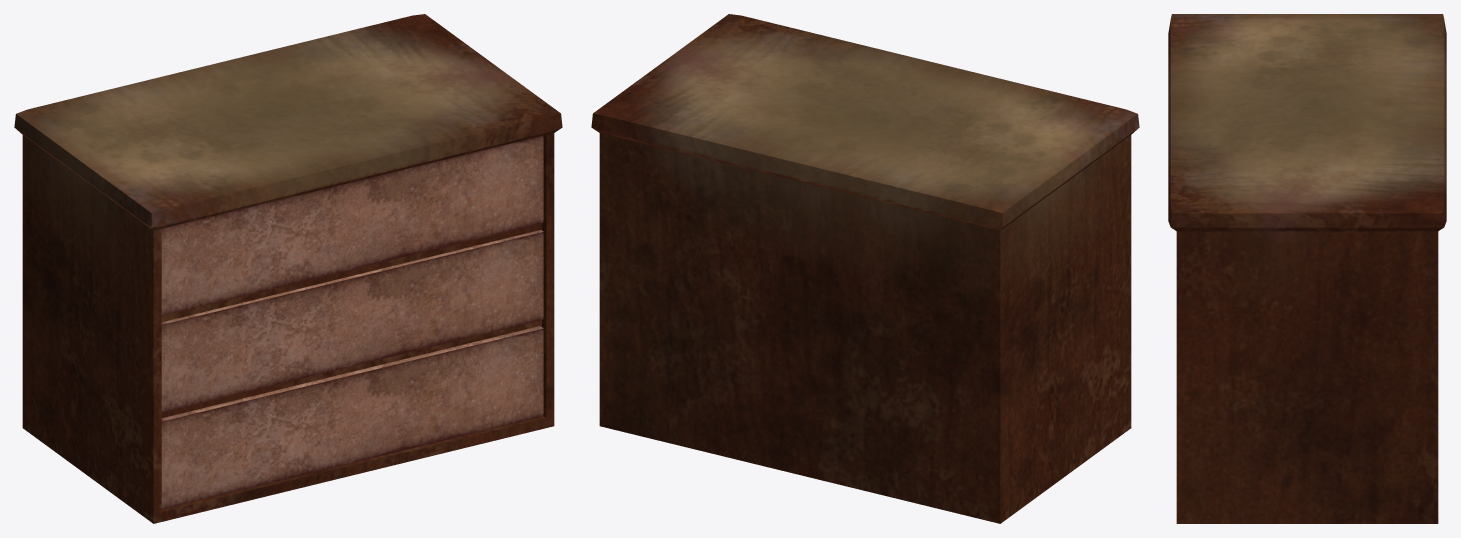
Rendered from Drawer.fbx.
3 views of the same model, side by side, from view 1: azimuth 30°, elevation 25°; view 2: azimuth 150°, elevation 25°; view 3: azimuth 270°, elevation 25° (orthographic).
Visible parts, largest first — view 1: drawer_base, drawer_3, drawer_2, drawer_1; view 2: drawer_base; view 3: drawer_base.
Part boxes in pixels (box(x1,y1,x2,y2)): drawer_base: box(14, 14, 562, 523); drawer_3: box(161, 326, 543, 509); drawer_2: box(161, 230, 543, 412); drawer_1: box(161, 135, 543, 315); drawer_base: box(591, 14, 1139, 523); drawer_base: box(1168, 14, 1446, 523).
Bounding box in the file's own units: 160 × 117 × 94.02.
